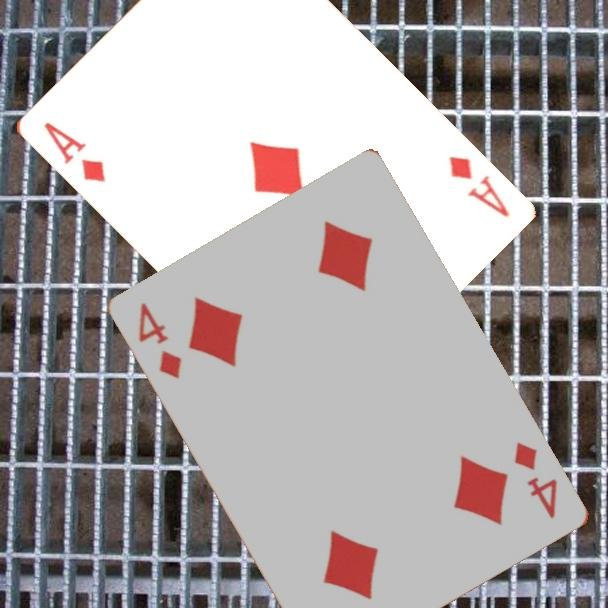d01: (40, 118, 108, 186), (444, 152, 512, 220)
d04: (135, 299, 186, 382), (511, 439, 561, 522)
